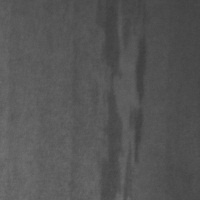inclusion: (94, 1, 148, 199), (60, 31, 83, 106)
